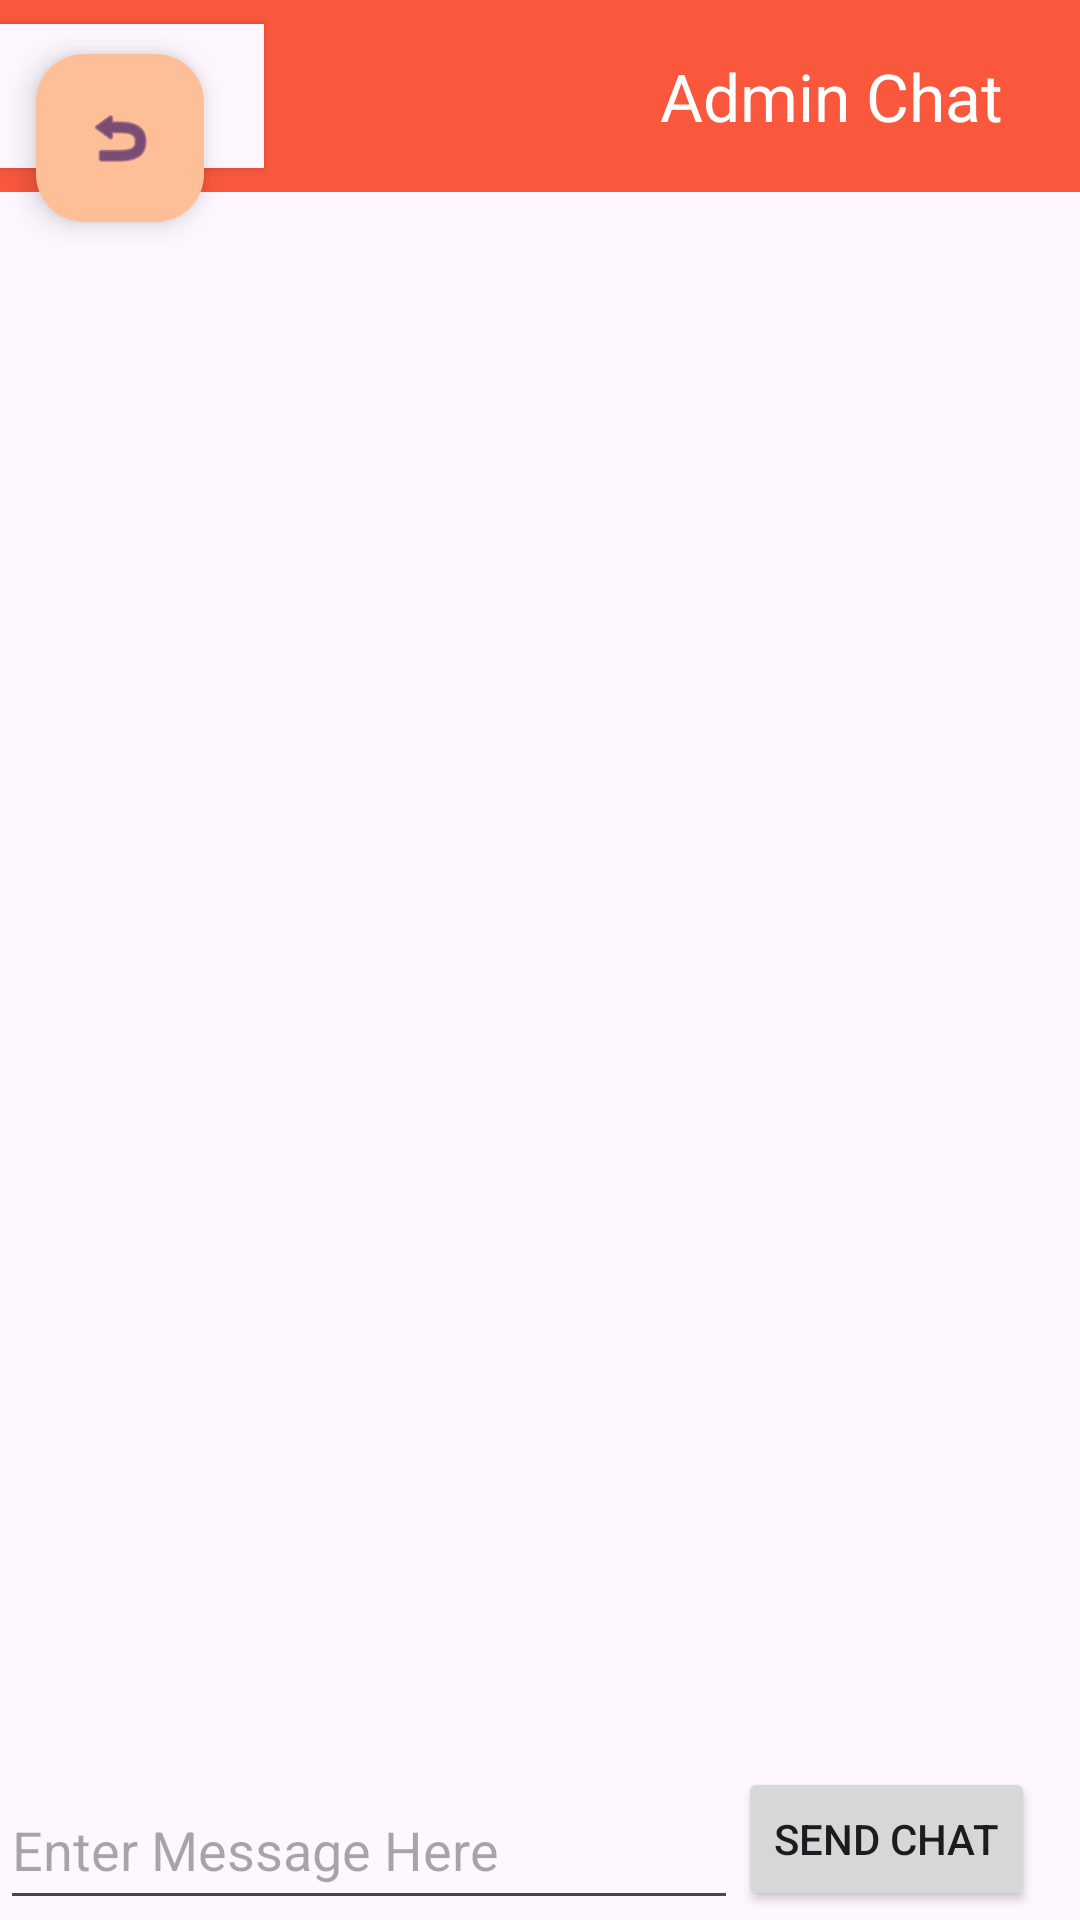

Icon bounding boxes for this 1080 x 1920 phone screenshot, format box(x1, y1, x2, y2):
Return to previous screen: box(0, 0, 240, 223)
